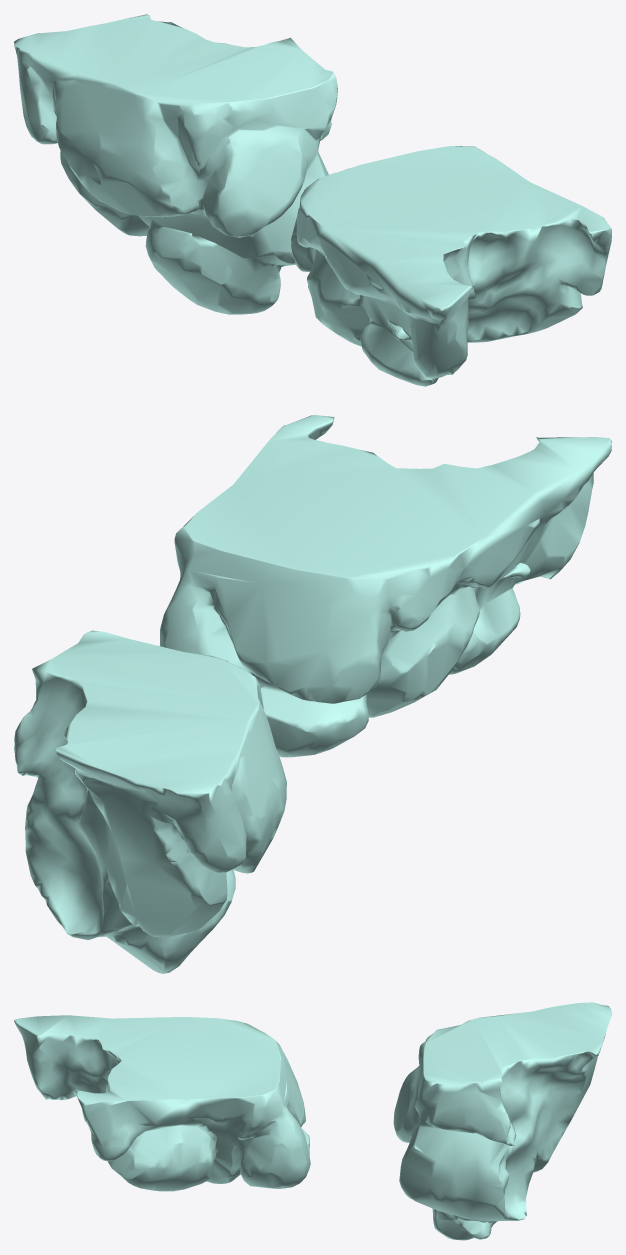
File: island_7_LOD2.fbx
3 renders of one model, top to bottom at view 1: azimuth 30°, elevation 25°; view 2: azimuth 150°, elevation 25°; view 3: azimuth 270°, elevation 25°, orthographic. The views are drawn at different scales.
Parts seen in each view (by area): view 1: island_7_LOD2; view 2: island_7_LOD2; view 3: island_7_LOD2.
Part boxes in pixels (x1,y1,x2,y2): island_7_LOD2: (14,14,611,386); island_7_LOD2: (14,415,611,973); island_7_LOD2: (14,1002,611,1240).
Size of the model in its own units: 953 by 805 by 2320.
